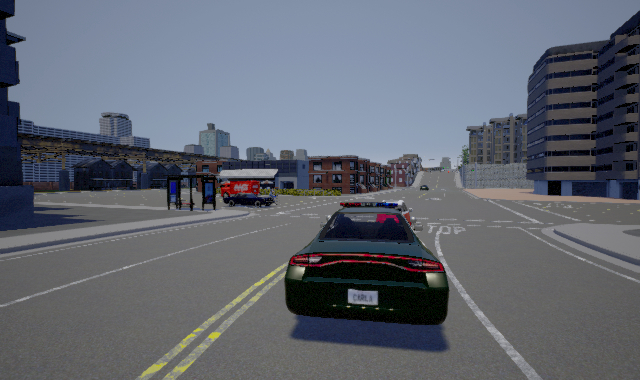vehicle: (284, 199, 450, 325), (222, 193, 278, 208), (218, 181, 260, 197)
